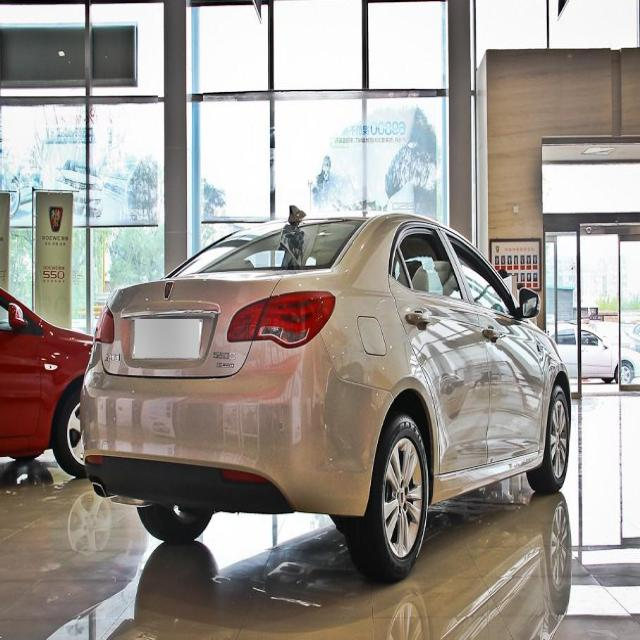back_glass: (165, 215, 373, 278)
back_left_side_light: (92, 298, 117, 349)
back_right_side_light: (225, 287, 337, 351)
door: (378, 226, 494, 473)
front_right_side_door: (442, 226, 546, 471)
front_right_side_mirror: (516, 282, 541, 332)
rear_bumper: (81, 344, 396, 520)
wheel: (343, 411, 430, 586), (526, 381, 571, 492), (136, 498, 216, 544)
